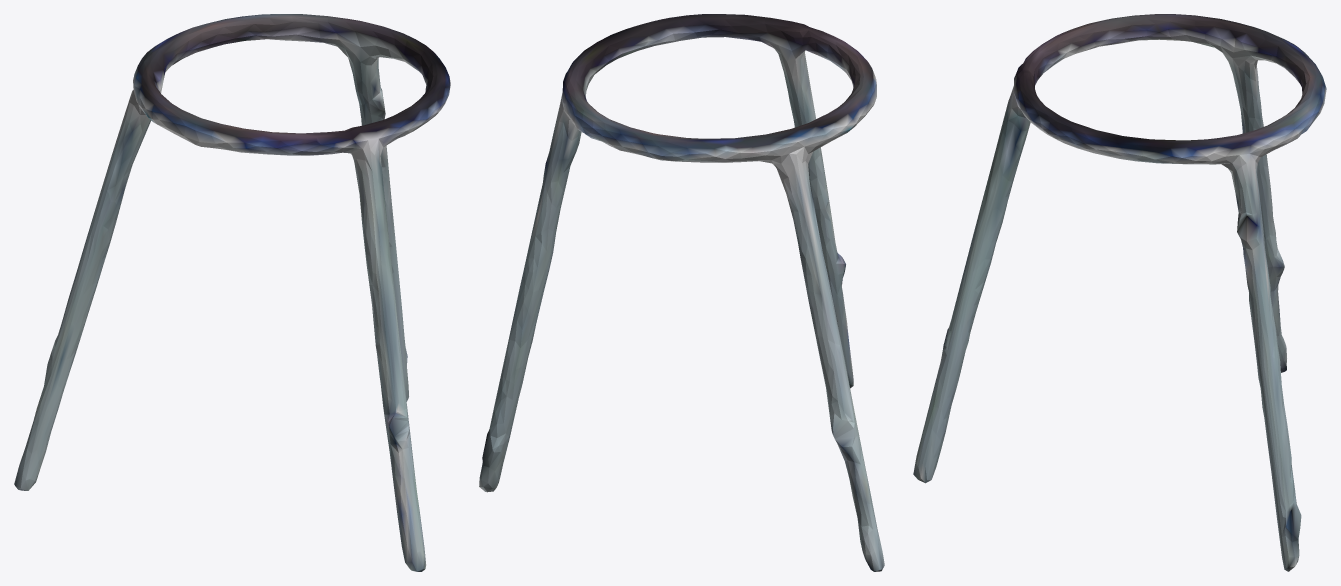
Rendered from scan.obj.
The picture shows the model from 3 angles, left to right: view 1: azimuth 30°, elevation 25°; view 2: azimuth 150°, elevation 25°; view 3: azimuth 270°, elevation 25°; orthographic projection.
Visible parts, largest first — view 1: scan.ply; view 2: scan.ply; view 3: scan.ply.
Boxes of the visible parts, x1,y1,x2,y2 form: scan.ply: (14,14,450,571); scan.ply: (479,14,884,571); scan.ply: (913,14,1326,571).
Bounding box in the file's own units: 0.1308 × 0.1313 × 0.1192.
